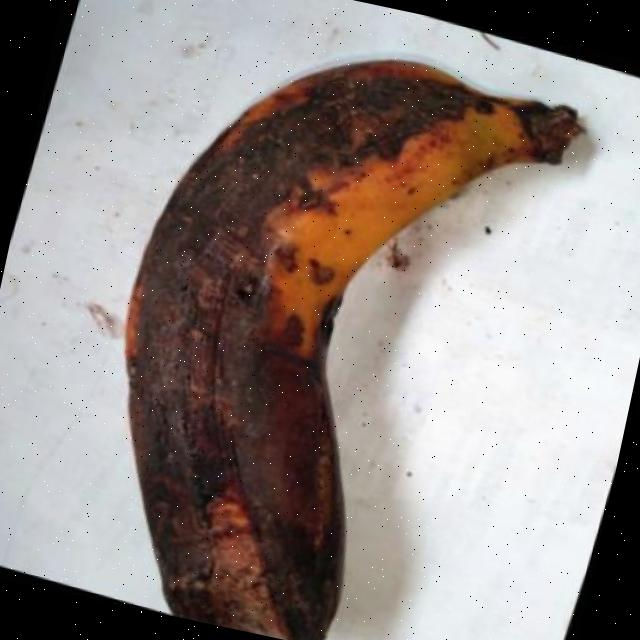Rotten: (52, 0, 601, 640)
